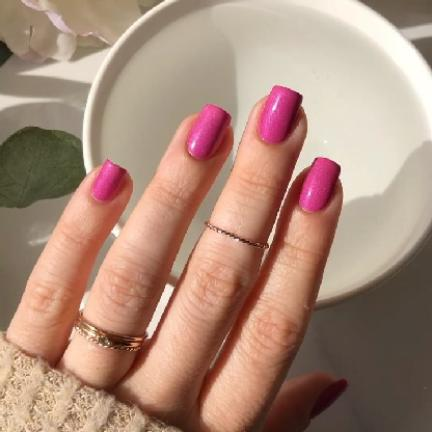Nail: (259, 85, 302, 143), (187, 104, 230, 159), (299, 157, 341, 212), (91, 159, 128, 202), (310, 379, 348, 419)
